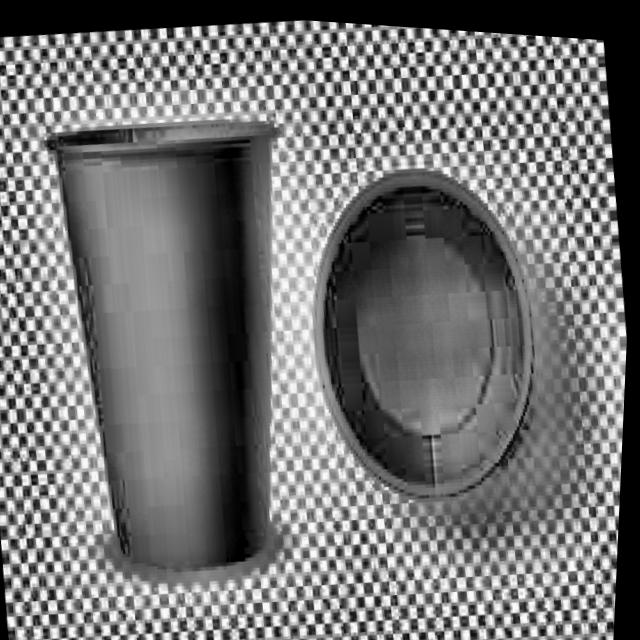Cup: (29, 94, 325, 596), (291, 137, 569, 522)
